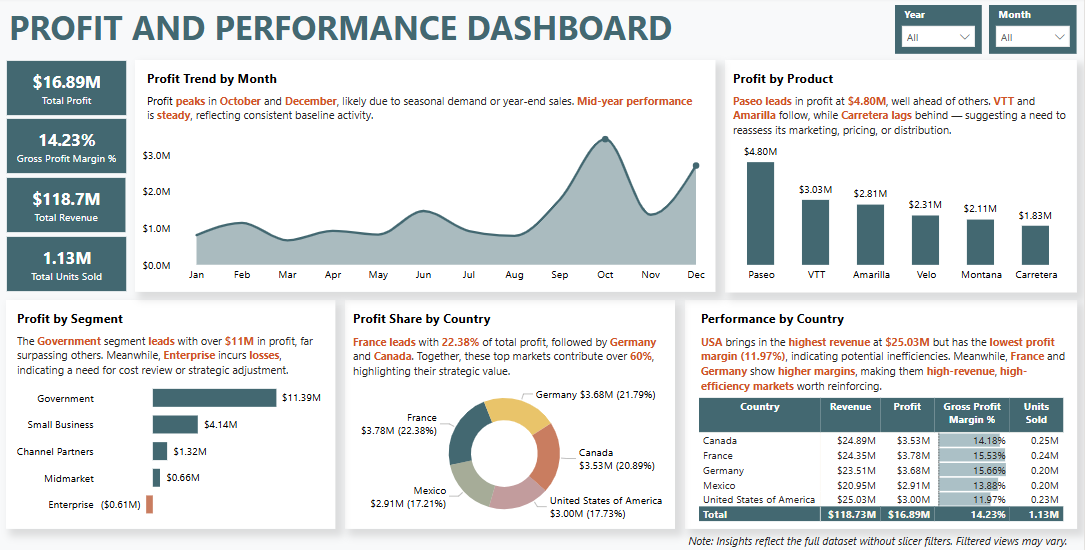

This screenshot's page, from the dashboard's own definition file:
{"tool":"powerbi","page":{"name":"Dashboard","canvas":[1400,720],"ordinal":0},"visuals":[{"type":"shape","box":[885.2,390.7,506,295],"z":0},{"type":"shape","box":[446.7,391.4,425.8,295],"z":1000},{"type":"textbox","box":[451.7,399.1,197.4,33.5],"z":2000},{"type":"shape","box":[9.1,391.4,425,295],"z":3000},{"type":"shape","box":[936.8,81,453.6,300],"z":4000},{"type":"shape","box":[175,81.9,749,298.7],"z":5000},{"type":"cardVisual","fields":{"Data":["Sum(Financials.Profit)"]},"box":[5,77,164,80],"z":6000},{"type":"cardVisual","fields":{"Data":["Financials.Gross Profit Margin %"]},"box":[5,152.7,164,80.5],"z":7000},{"type":"lineChart","title":"Profit Trend by Month","fields":{"Category":["dCalendar.Month"],"Y":["Sum(Financials.Profit)"]},"box":[184.5,165.2,739.4,206.5],"z":8000},{"type":"clusteredColumnChart","title":"Profit by Product","fields":{"Category":["Financials.Product"],"Y":["Sum(Financials.Profit)"]},"box":[936.8,176.8,449,194.8],"z":9000},{"type":"clusteredBarChart","title":"Profit by Segment","fields":{"Y":["Sum(Financials.Profit)"],"Category":["Financials.Segment"]},"box":[14.2,483.9,402.6,197.4],"z":10000},{"type":"pivotTable","title":"Performance by Country","fields":{"Rows":["Financials.Country"],"Values":["Sum(Financials. Sales)","Sum(Financials.Profit)","Financials.Gross Profit Margin %","Sum(Financials.Units Sold)"]},"box":[903.2,512.3,471,170.3],"z":11000},{"type":"donutChart","title":"Profit Share by Country","fields":{"Category":["Financials.Country"],"Y":["Sum(Financials.Profit)"]},"box":[442.6,496.8,419,184.5],"z":12000},{"type":"textbox","box":[7.7,3.9,887.7,76.1],"z":13000},{"type":"slicer","fields":{"Values":["dCalendar.Month"]},"box":[1277,10.2,113.2,63.2],"z":14000},{"type":"cardVisual","fields":{"Data":["Sum(Financials.Units Sold)"]},"box":[5,305,164,80],"z":15000},{"type":"slicer","fields":{"Values":["dCalendar.Year"]},"box":[1155.9,10.2,111.8,63.2],"z":16000},{"type":"textbox","box":[185.8,118.7,726.5,53],"z":17000},{"type":"textbox","box":[941.9,118.7,443.9,74.8],"z":18000},{"type":"textbox","box":[18.2,428.6,411.7,68.8],"z":19000},{"type":"textbox","box":[451.6,429.7,420.6,67.1],"z":20000},{"type":"textbox","box":[900.7,430.1,482.6,86.5],"z":21000},{"type":"cardVisual","fields":{"Data":["Sum(Financials. Sales)"]},"box":[5,229,163.2,80.3],"z":22000},{"type":"textbox","box":[186,89.1,197.4,33.5],"z":23000},{"type":"textbox","box":[942.5,89.1,197.4,33.8],"z":24000},{"type":"textbox","box":[17.6,399.1,197.4,33.5],"z":25000},{"type":"textbox","box":[900.1,399.1,210.4,32.8],"z":26000},{"type":"textbox","box":[872.3,686.5,518.7,33.5],"z":27000}]}

Visuals, with their boxes in screenshot pixels (x1, y1, x2, y2), scaled from the page's 1400x720 canvas onto the 1085x550 screenshot:
shape: bbox=[686, 298, 1078, 524]
shape: bbox=[346, 299, 676, 524]
textbox: bbox=[350, 305, 503, 330]
shape: bbox=[7, 299, 336, 524]
shape: bbox=[726, 62, 1078, 291]
shape: bbox=[136, 63, 716, 291]
cardVisual - Sum(Financials.Profit): bbox=[4, 59, 131, 120]
cardVisual - Financials.Gross Profit Margin %: bbox=[4, 117, 131, 178]
"Profit Trend by Month" lineChart: bbox=[143, 126, 716, 284]
"Profit by Product" clusteredColumnChart: bbox=[726, 135, 1074, 284]
"Profit by Segment" clusteredBarChart: bbox=[11, 370, 323, 520]
"Performance by Country" pivotTable: bbox=[700, 391, 1065, 521]
"Profit Share by Country" donutChart: bbox=[343, 380, 668, 520]
textbox: bbox=[6, 3, 694, 61]
slicer - dCalendar.Month: bbox=[990, 8, 1077, 56]
cardVisual - Sum(Financials.Units Sold): bbox=[4, 233, 131, 294]
slicer - dCalendar.Year: bbox=[896, 8, 982, 56]
textbox: bbox=[144, 91, 707, 131]
textbox: bbox=[730, 91, 1074, 148]
textbox: bbox=[14, 327, 333, 380]
textbox: bbox=[350, 328, 676, 379]
textbox: bbox=[698, 329, 1072, 395]
cardVisual - Sum(Financials. Sales): bbox=[4, 175, 130, 236]
textbox: bbox=[144, 68, 297, 94]
textbox: bbox=[730, 68, 883, 94]
textbox: bbox=[14, 305, 167, 330]
textbox: bbox=[698, 305, 861, 330]
textbox: bbox=[676, 524, 1078, 549]
